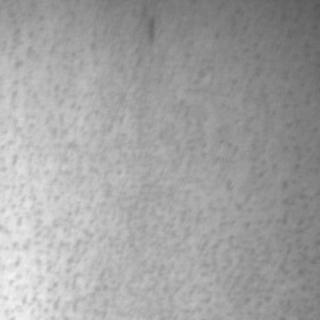pitted_surface: (0, 2, 110, 314), (244, 3, 318, 281)
